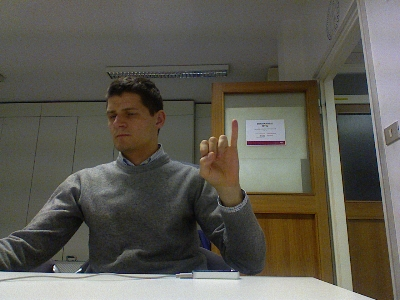小指: (196, 117, 241, 189)
